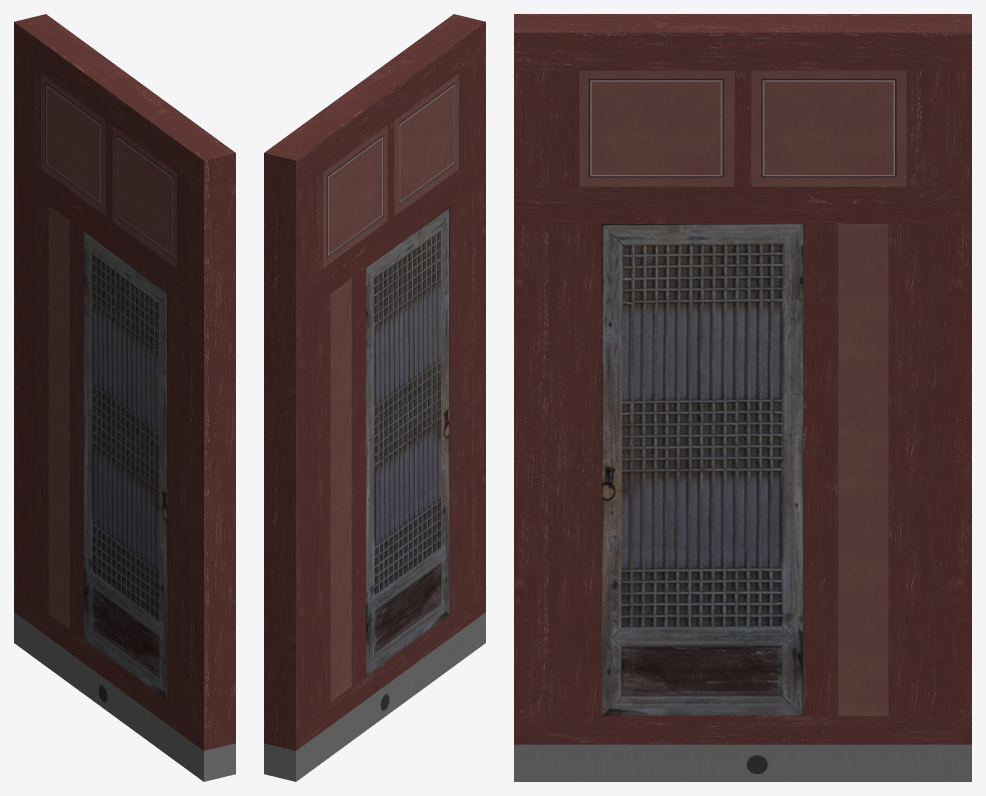
Rendered from SM_Ssang_Dae_Wall_B.fbx.
The picture shows the model from 3 angles, left to right: view 1: azimuth 30°, elevation 25°; view 2: azimuth 150°, elevation 25°; view 3: azimuth 270°, elevation 25°; orthographic projection. The views are drawn at different scales.
Visible parts, largest first — view 1: SM_Ssang_Dae_Wall_B; view 2: SM_Ssang_Dae_Wall_B; view 3: SM_Ssang_Dae_Wall_B.
Part boxes in pixels (x1=…): SM_Ssang_Dae_Wall_B: x1=14, y1=14, x2=235, y2=781; SM_Ssang_Dae_Wall_B: x1=264, y1=14, x2=485, y2=781; SM_Ssang_Dae_Wall_B: x1=514, y1=14, x2=971, y2=781.
Size of the model in its own units: 20 by 371 by 206.
